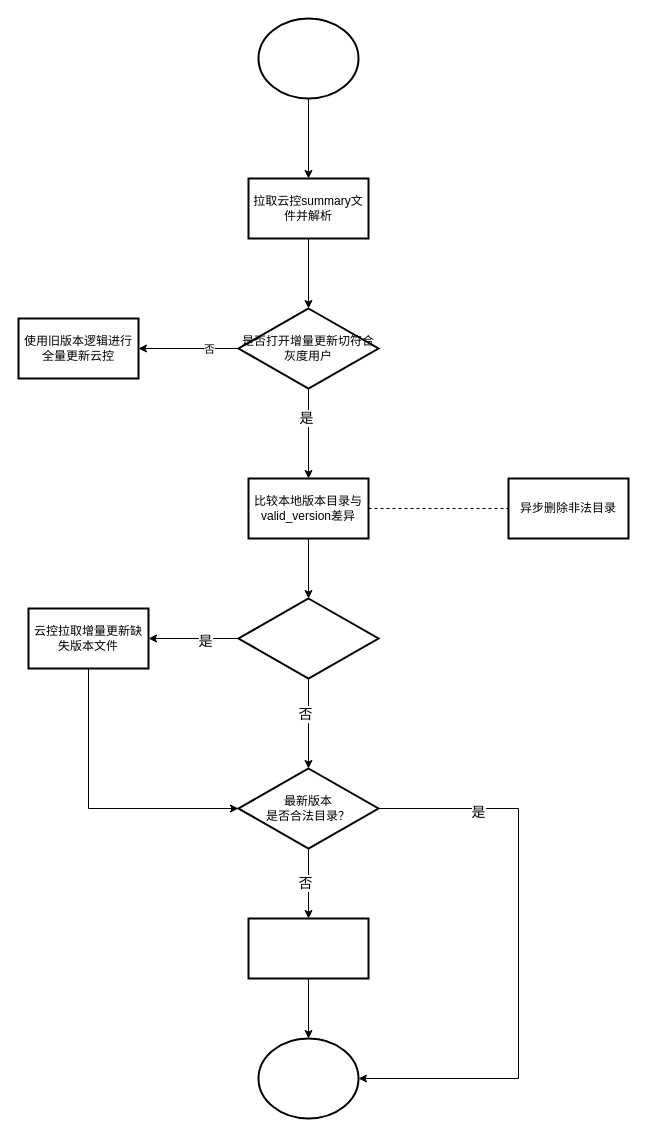
The diagram is 646 pixels wide and 1136 high, and some of its shapes have lost their labels. The centre of each missing label's shape, as x and y in pixels:
"AI模块启动" belongs at point 308,58.
"存在未拉取版本" belongs at point 308,638.
"寻找valid_version较新版本且为合法目录" belongs at point 308,948.
"将增量更新目录发布至asset目录" belongs at point 308,1078.
